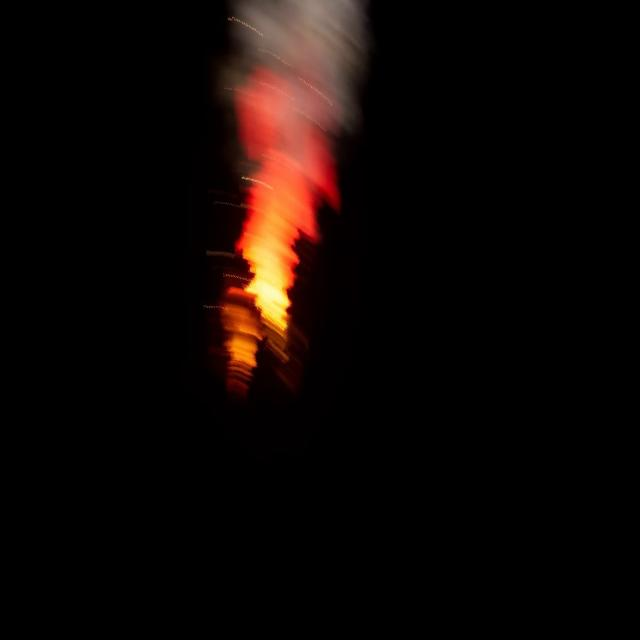smoke: (223, 70, 339, 384), (228, 0, 361, 116)
